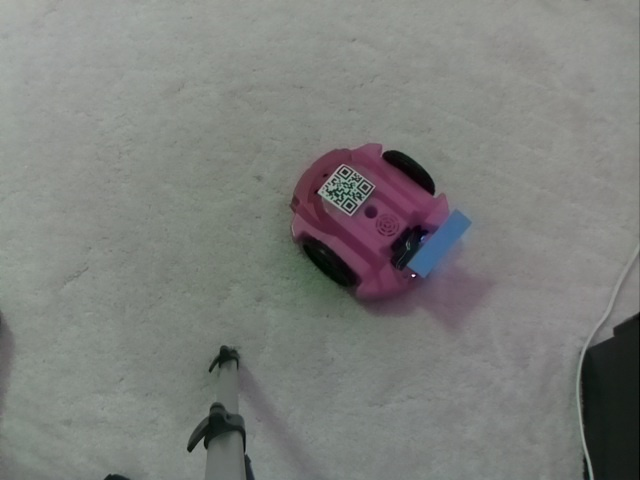chassis: (286, 141, 466, 306)
qr: (316, 158, 375, 218)
